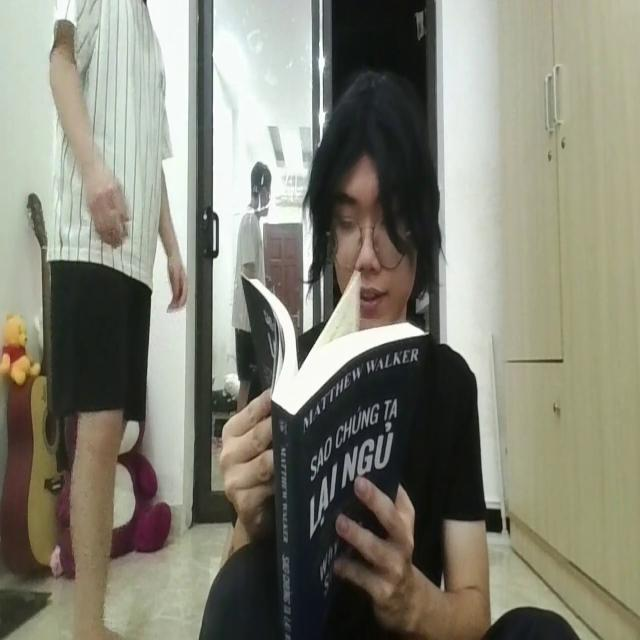book: (246, 266, 427, 640)
extra_person: (41, 0, 193, 640)
student: (203, 64, 494, 640)
